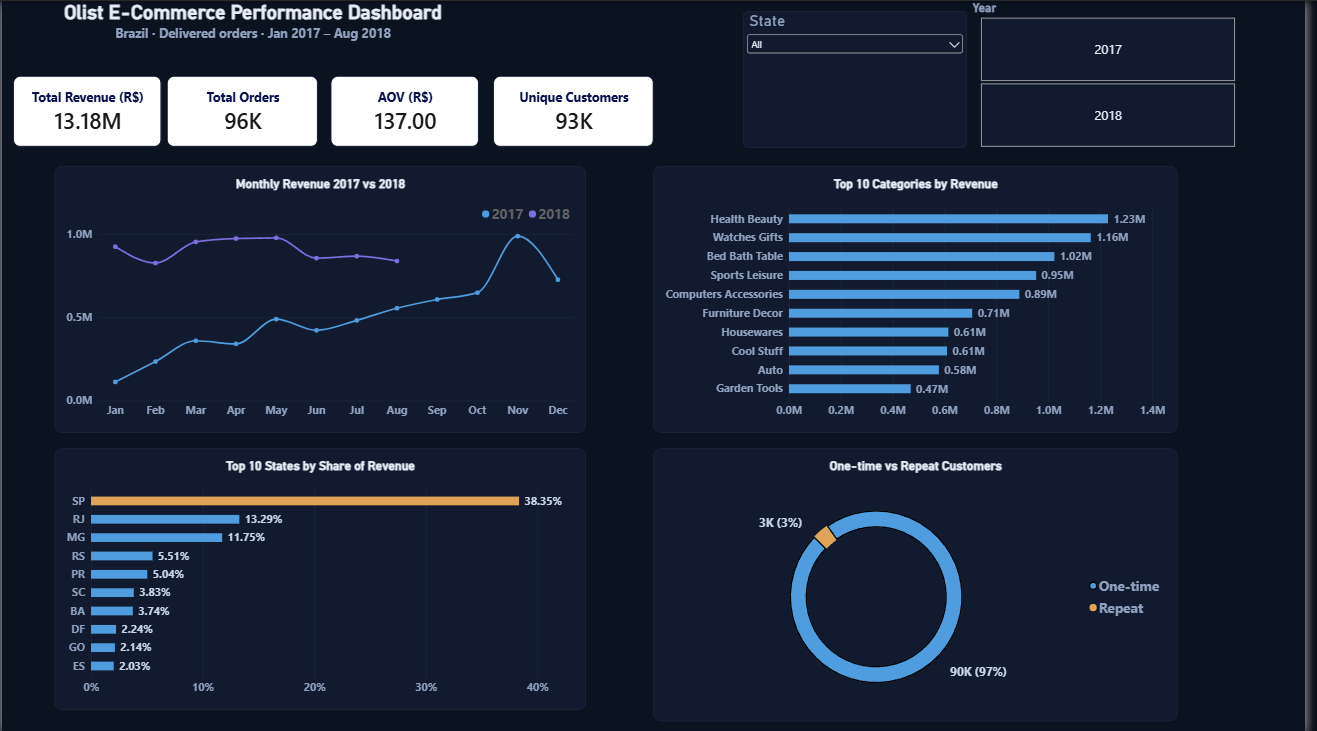

The page's visual inventory and layout, read from the dashboard file:
{"tool":"powerbi","page":{"name":"Business_Overview","canvas":[1920,1080],"ordinal":0},"visuals":[{"type":"lineChart","title":"Monthly Revenue 2017 vs 2018","fields":{"Category":["Dim_Date.Month"],"Series":["Dim_Date.Year"],"Y":["fact_items.Total Revenue"]},"box":[78.2,242.9,782.2,393.1],"z":0},{"type":"clusteredBarChart","title":"Top 10 Categories by Revenue","fields":{"Category":["dim_products.category"],"Y":["fact_items.Total Revenue"]},"box":[959.2,242.9,771.9,393.1],"z":1000},{"type":"clusteredBarChart","title":"Top 10 States by Share of Revenue","fields":{"Category":["dim_customers.customer_state"],"Y":["fact_items.Revenue % of Total"]},"box":[78.2,658.7,782.2,384.9],"z":2000},{"type":"donutChart","title":"One-time vs Repeat Customers","fields":{"Category":["Customer Type.Value"],"Y":["fact_items.Customers by Type"]},"box":[959.2,658.7,771.9,401.4],"z":3000},{"type":"textbox","title":"Olist E-Commerce Performance Dashboard","box":[16.5,0,706,74.1],"z":5000},{"type":"cardVisual","fields":{"Data":["fact_items.Total Revenue"]},"box":[16.5,111.1,218.2,105],"z":6000},{"type":"cardVisual","fields":{"Data":["fact_items.Total Orders"]},"box":[242.9,111.1,222.3,105],"z":7000},{"type":"cardVisual","fields":{"Data":["fact_items.AOV"]},"box":[483.7,111.1,218.2,105],"z":8000},{"type":"cardVisual","fields":{"Data":["fact_items.Unique Customers"]},"box":[722.5,111.1,236.7,105],"z":9000},{"type":"slicer","fields":{"Values":["Dim_Date.Year"]},"box":[1420.2,0,413.7,216.1],"z":10000},{"type":"slicer","fields":{"Values":["dim_customers.customer_state"]},"box":[1090.9,14.4,329.3,201.7],"z":10001}]}

Visuals, with their boxes in screenshot pixels (x1, y1, x2, y2), scaled from the page's 1920x1080 canvas onto the 1317x731 screenshot:
"Monthly Revenue 2017 vs 2018" lineChart: BBox(54, 164, 590, 430)
"Top 10 Categories by Revenue" clusteredBarChart: BBox(658, 164, 1187, 430)
"Top 10 States by Share of Revenue" clusteredBarChart: BBox(54, 446, 590, 706)
"One-time vs Repeat Customers" donutChart: BBox(658, 446, 1187, 718)
"Olist E-Commerce Performance Dashboard" textbox: BBox(11, 0, 496, 50)
cardVisual - fact_items.Total Revenue: BBox(11, 75, 161, 146)
cardVisual - fact_items.Total Orders: BBox(167, 75, 319, 146)
cardVisual - fact_items.AOV: BBox(332, 75, 481, 146)
cardVisual - fact_items.Unique Customers: BBox(496, 75, 658, 146)
slicer - Dim_Date.Year: BBox(974, 0, 1258, 146)
slicer - dim_customers.customer_state: BBox(748, 10, 974, 146)
